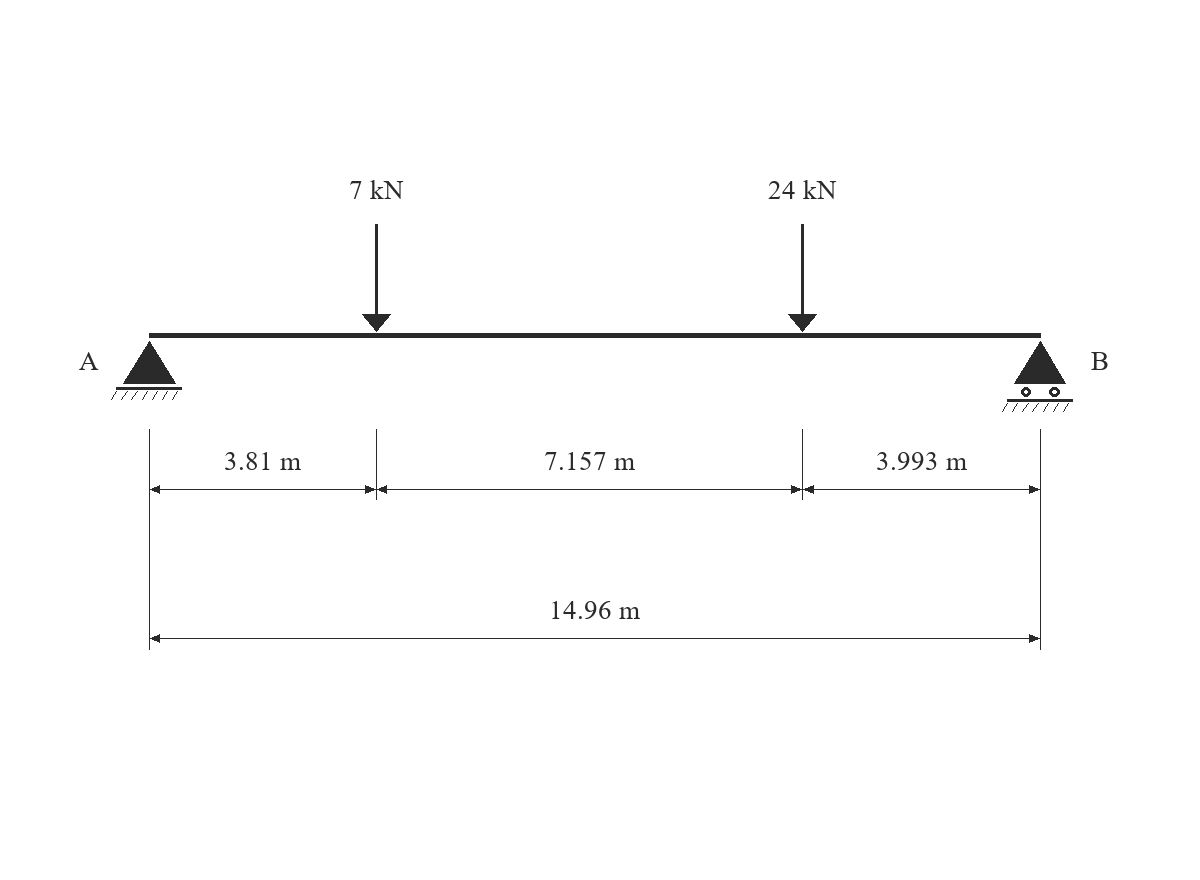pin_support: (111, 341, 182, 400)
point_load: (362, 224, 391, 332), (788, 224, 817, 332)
roller_support: (1002, 341, 1073, 412)
